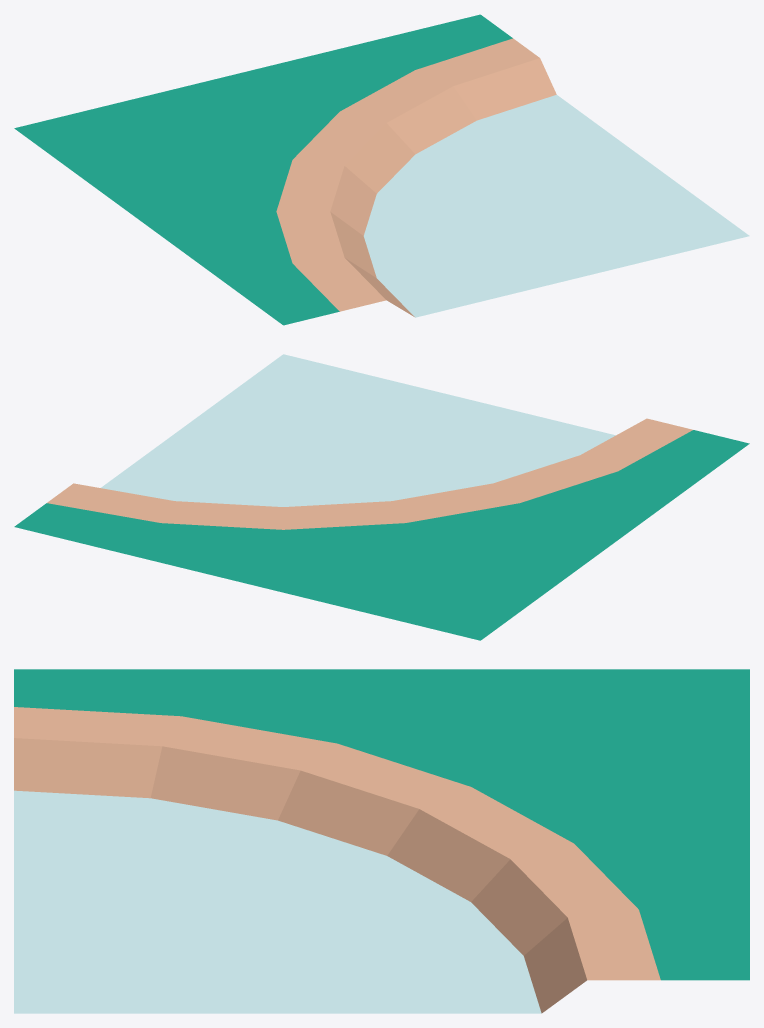
The model's file is ground_riverCorner.glb.
3 renders of one model, top to bottom at view 1: azimuth 30°, elevation 25°; view 2: azimuth 150°, elevation 25°; view 3: azimuth 270°, elevation 25°, orthographic. The views are drawn at different scales.
Parts seen in each view (by area): view 1: ground_riverCorner; view 2: ground_riverCorner; view 3: ground_riverCorner.
Boxes of the visible parts, box(x1,y1,x2,y2) form: ground_riverCorner: box(14, 14, 749, 325); ground_riverCorner: box(14, 354, 749, 640); ground_riverCorner: box(14, 669, 749, 1013).
Bounding box in the file's own units: 1 × 0.05 × 1.
